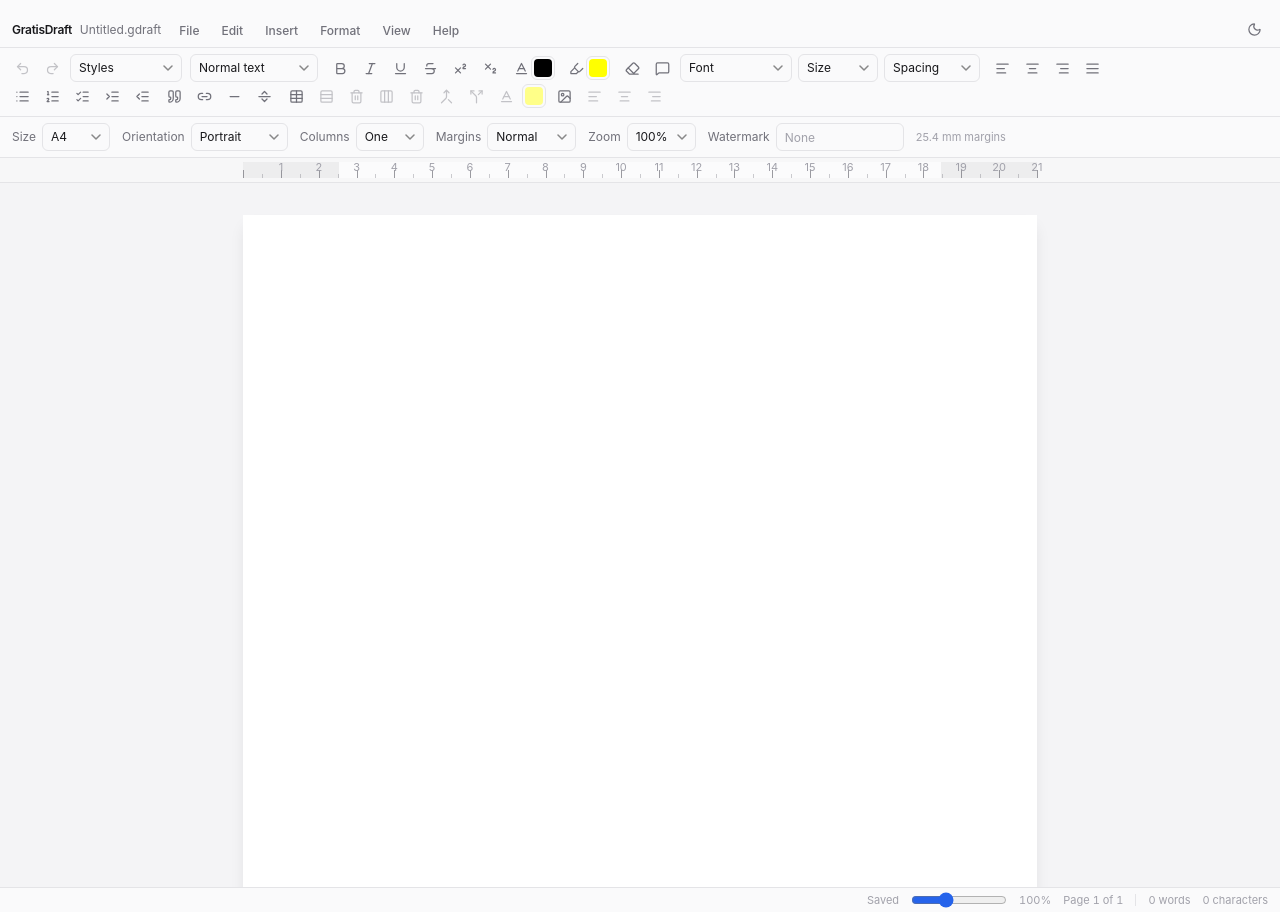
Test: App shell › inserts a caption from the Insert menu
The width and height of the screenshot is (1280, 912).
Click the button "Insert". click: click(282, 30)
box: 255,18 -> 308,42
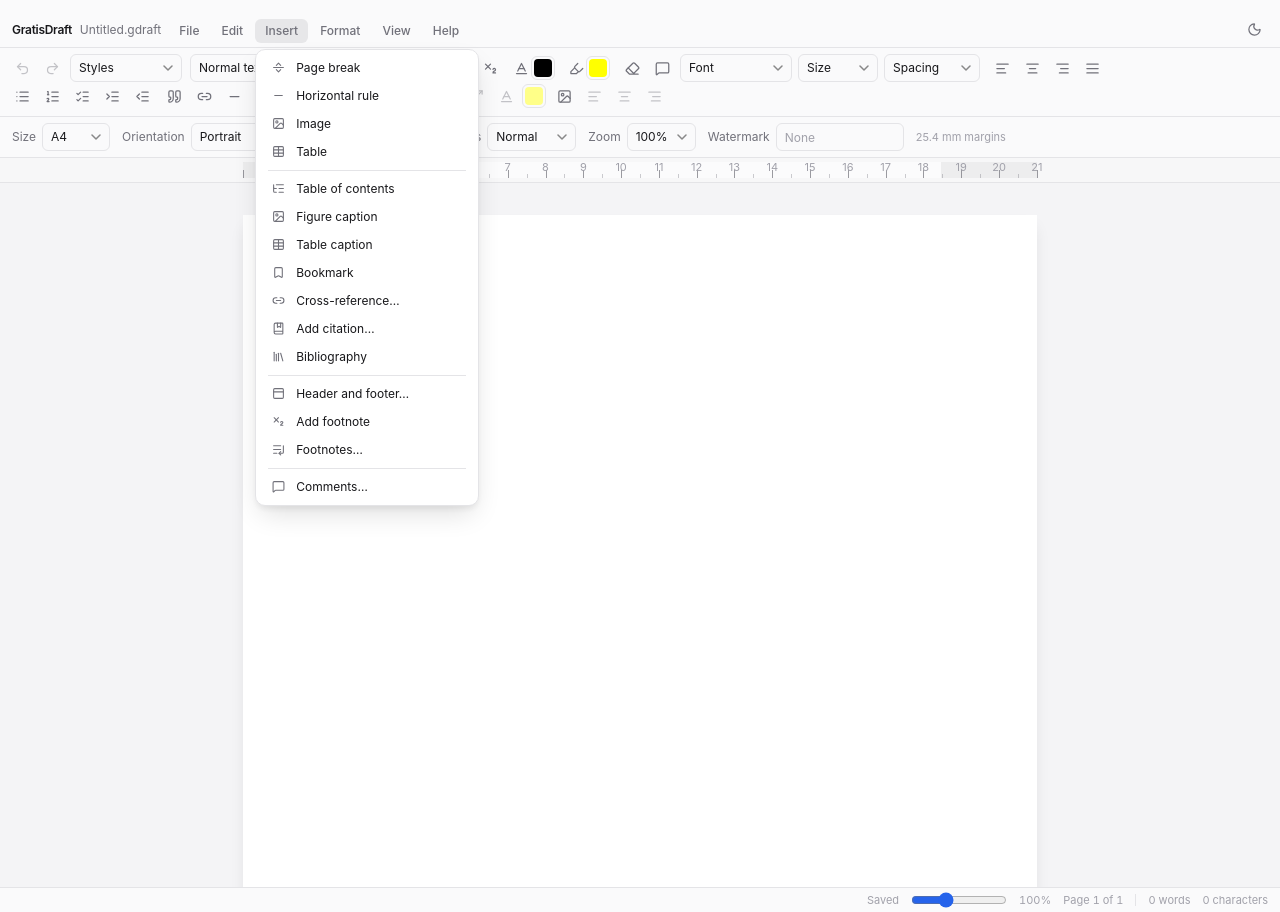
Click the menu item "Figure caption". click: click(367, 216)
box: 260,202 -> 474,230
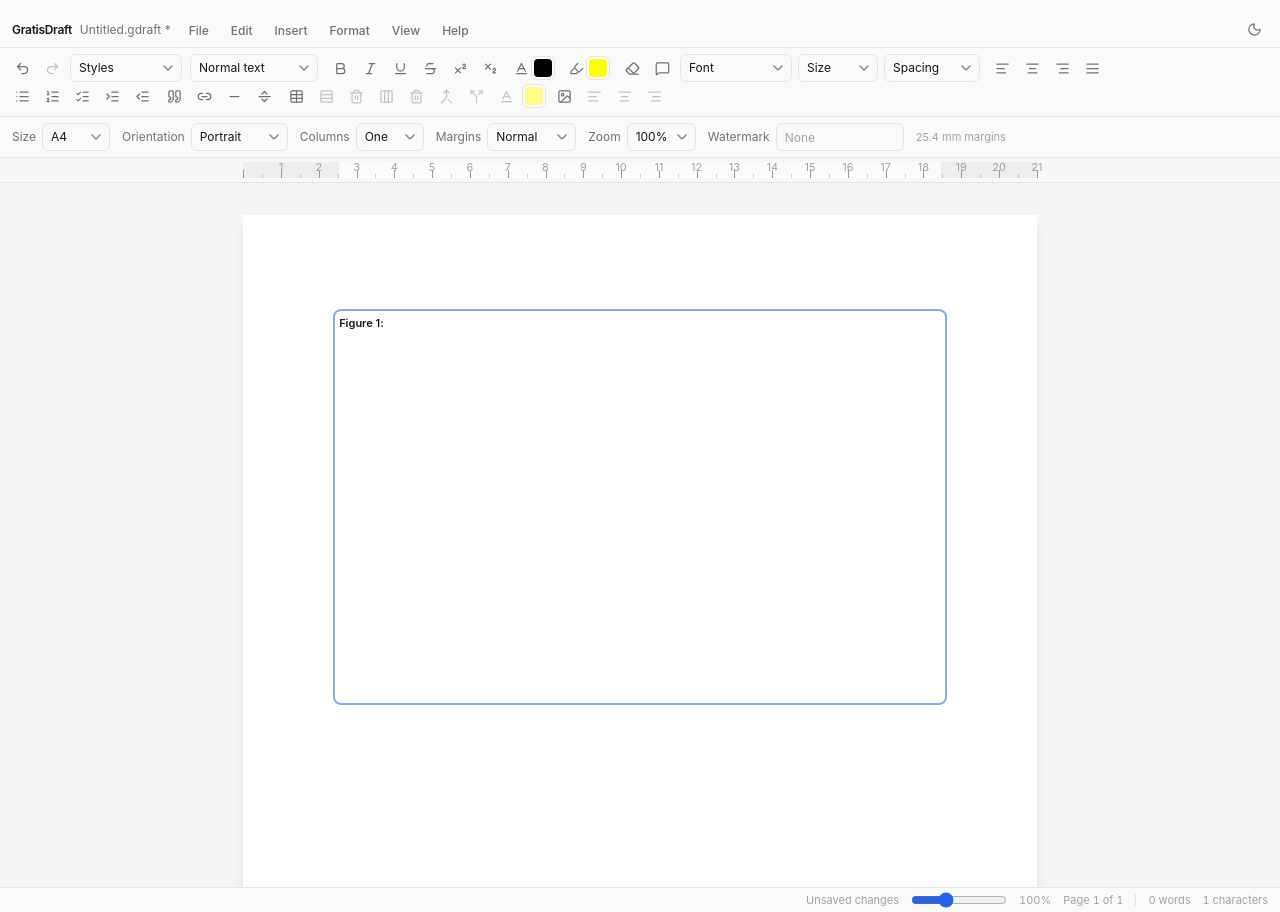
Expected: the 1st text box is shown, 339,315 -> 941,332
